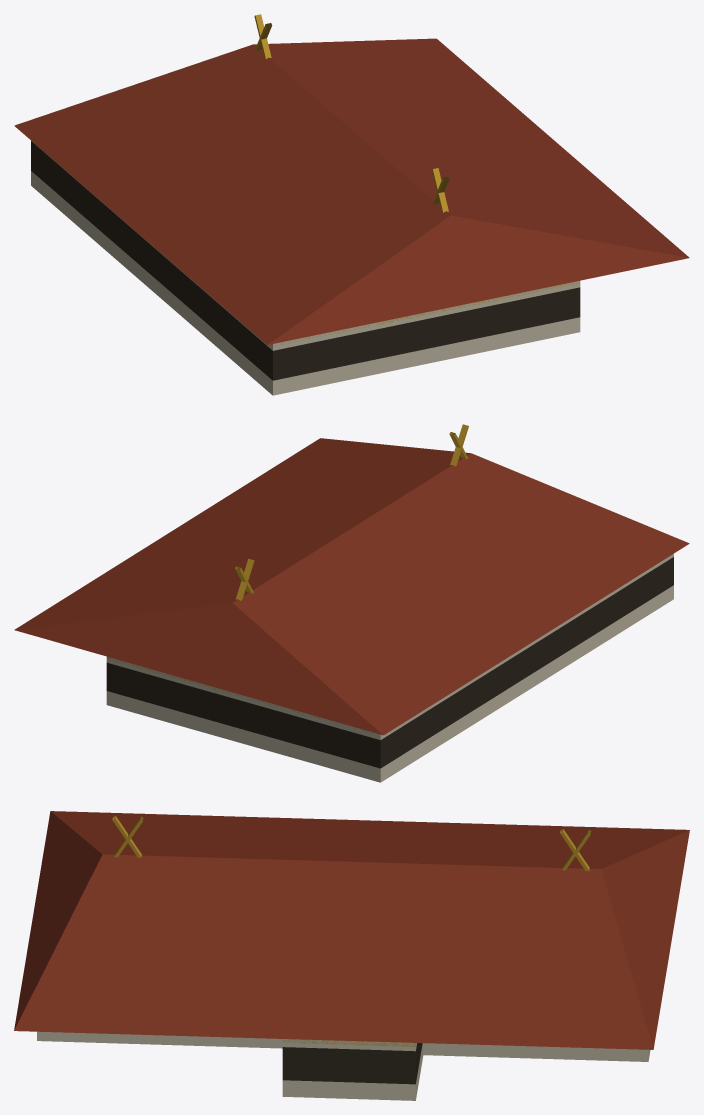
Rendered from museum-sang-nila-utama-lod0.glb.
3 renders of one model, top to bottom at view 1: azimuth 30°, elevation 25°; view 2: azimuth 150°, elevation 25°; view 3: azimuth 270°, elevation 25°, orthographic. The views are drawn at different scales.
Parts seen in each view (by area): view 1: museum-sang-nila-utama_LOD0; view 2: museum-sang-nila-utama_LOD0; view 3: museum-sang-nila-utama_LOD0.
Part boxes in pixels (x1,y1,x2,y2): museum-sang-nila-utama_LOD0: [14, 14, 689, 395]; museum-sang-nila-utama_LOD0: [14, 424, 689, 782]; museum-sang-nila-utama_LOD0: [14, 811, 689, 1100].
Size of the model in its own units: 52.22 by 17.34 by 62.45.
